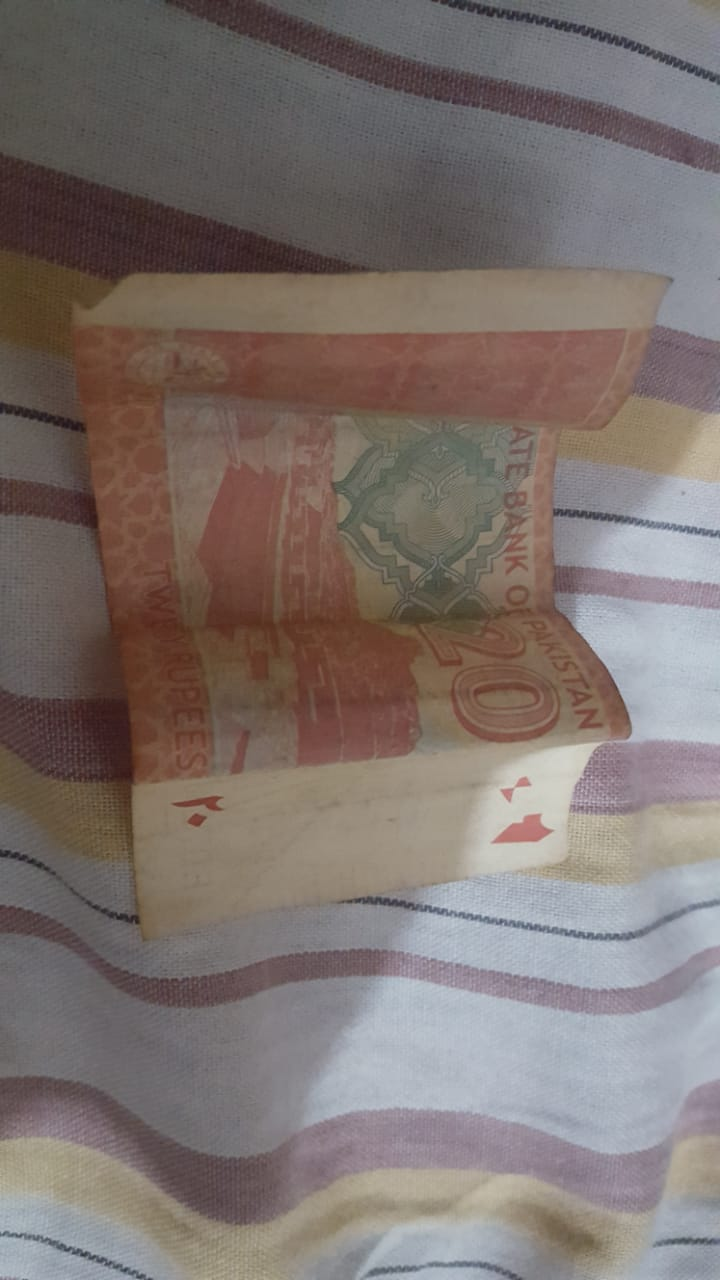20 rupee: (50, 251, 665, 950)
